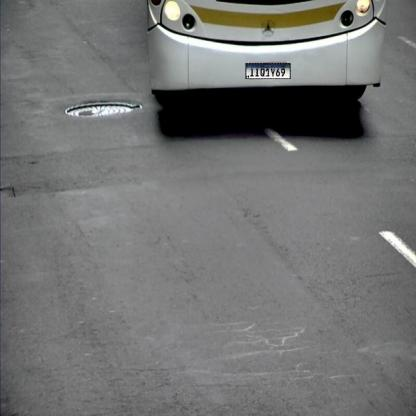PlacaM: (246, 63, 290, 79)
